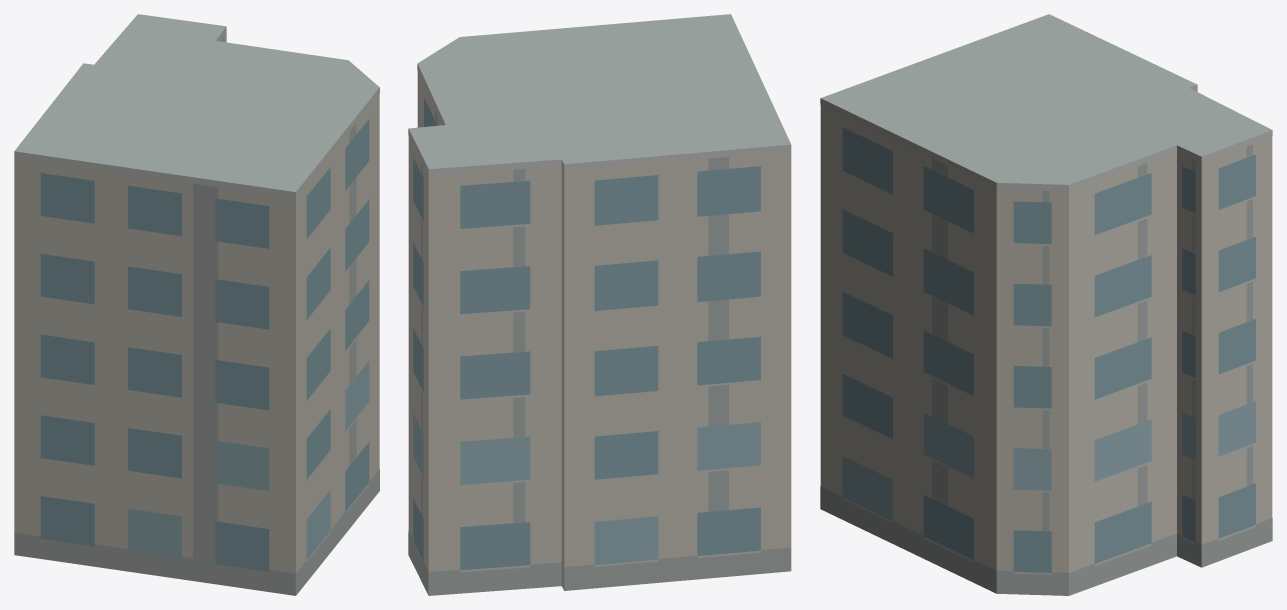
File: survey-upis-32830026.glb
3 renders of one model, left to right at view 1: azimuth 30°, elevation 25°; view 2: azimuth 150°, elevation 25°; view 3: azimuth 270°, elevation 25°, orthographic. The views are drawn at different scales.
Visible parts, largest first — view 1: survey-upis-32830026.tmp; view 2: survey-upis-32830026.tmp; view 3: survey-upis-32830026.tmp.
Boxes of the visible parts, x1,y1,x2,y2 form: survey-upis-32830026.tmp: (14,14,379,595); survey-upis-32830026.tmp: (408,14,791,595); survey-upis-32830026.tmp: (820,14,1272,595).
Size of the model in its own units: 13.39 by 15 by 14.96.
